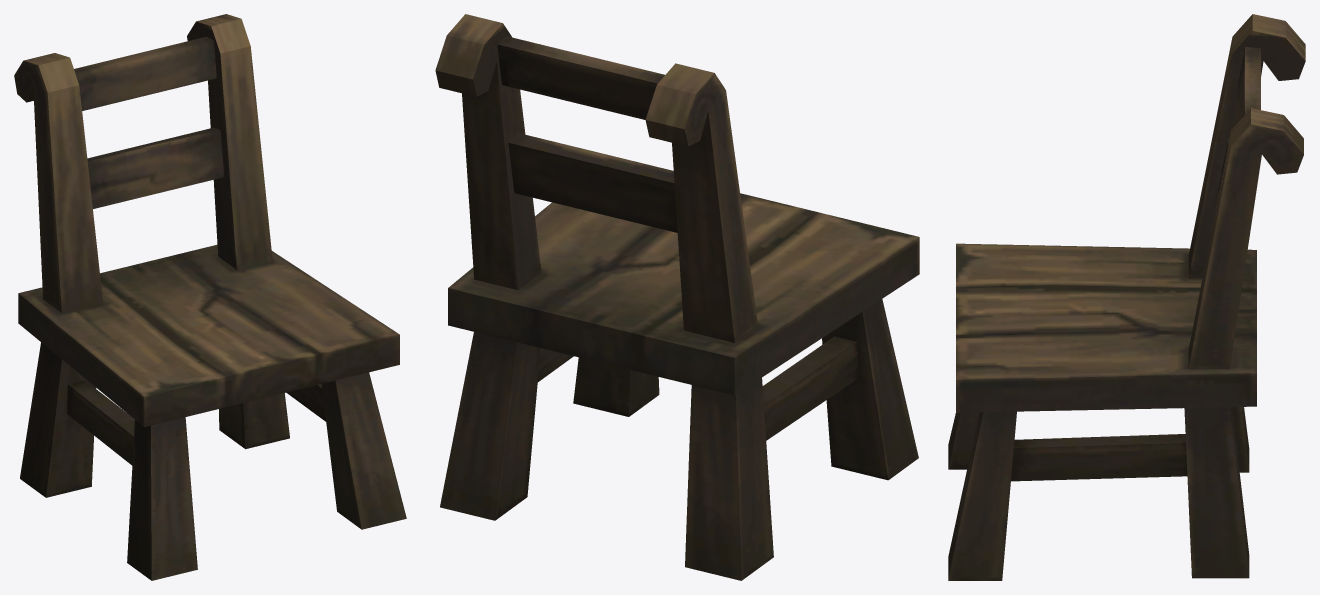
The model's file is crypt_chair03.fbx.
3 renders of one model, left to right at view 1: azimuth 30°, elevation 25°; view 2: azimuth 150°, elevation 25°; view 3: azimuth 270°, elevation 25°, orthographic. The views are drawn at different scales.
Parts seen in each view (by area): view 1: obj0.104; view 2: obj0.104; view 3: obj0.104.
Part boxes in pixels (x1=…): obj0.104: x1=14, y1=14, x2=406, y2=580; obj0.104: x1=435, y1=14, x2=919, y2=580; obj0.104: x1=948, y1=14, x2=1305, y2=580.
Size of the model in its own units: 0.9546 by 1.43 by 1.04.
